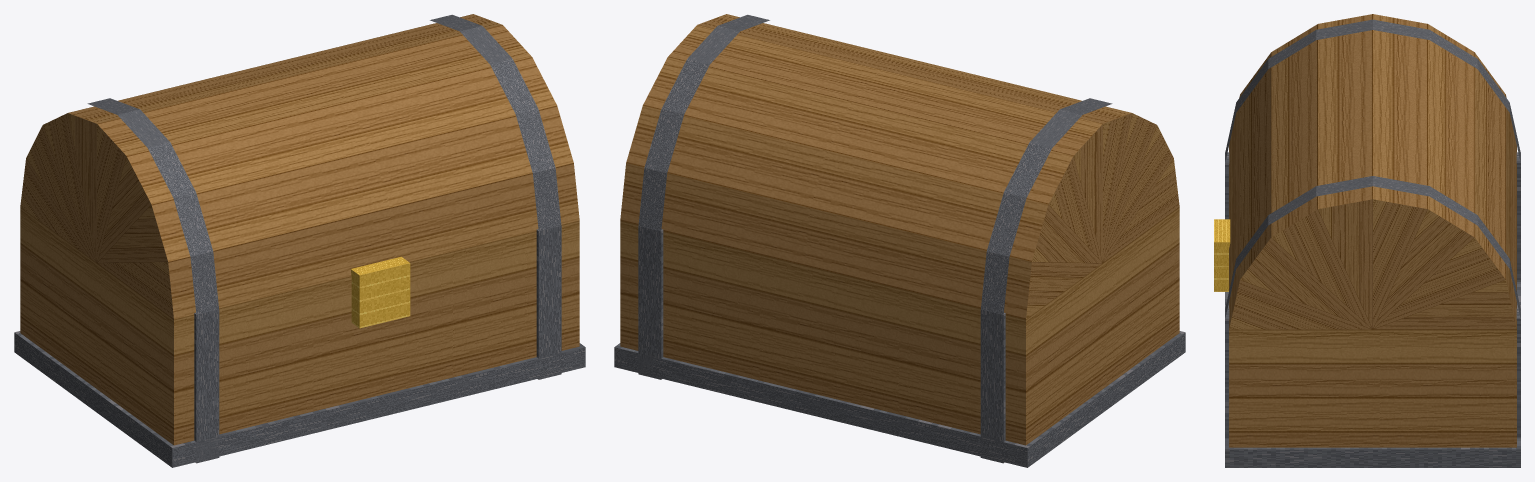
File: treasure-chest.glb
3 renders of one model, left to right at view 1: azimuth 30°, elevation 25°; view 2: azimuth 150°, elevation 25°; view 3: azimuth 270°, elevation 25°, orthographic. The views are drawn at different scales.
Visible parts, largest first — view 1: Lid, Body; view 2: Lid, Body; view 3: Lid, Body.
Boxes of the visible parts, x1,y1,x2,y2 form: Lid: (20, 14, 579, 319); Body: (14, 207, 585, 467); Lid: (620, 14, 1179, 319); Body: (614, 207, 1185, 467); Lid: (1225, 14, 1520, 329); Body: (1214, 152, 1520, 467).
Size of the model in its own units: 6.52 by 4.38 by 4.48.
3 materials, 3 textured.
